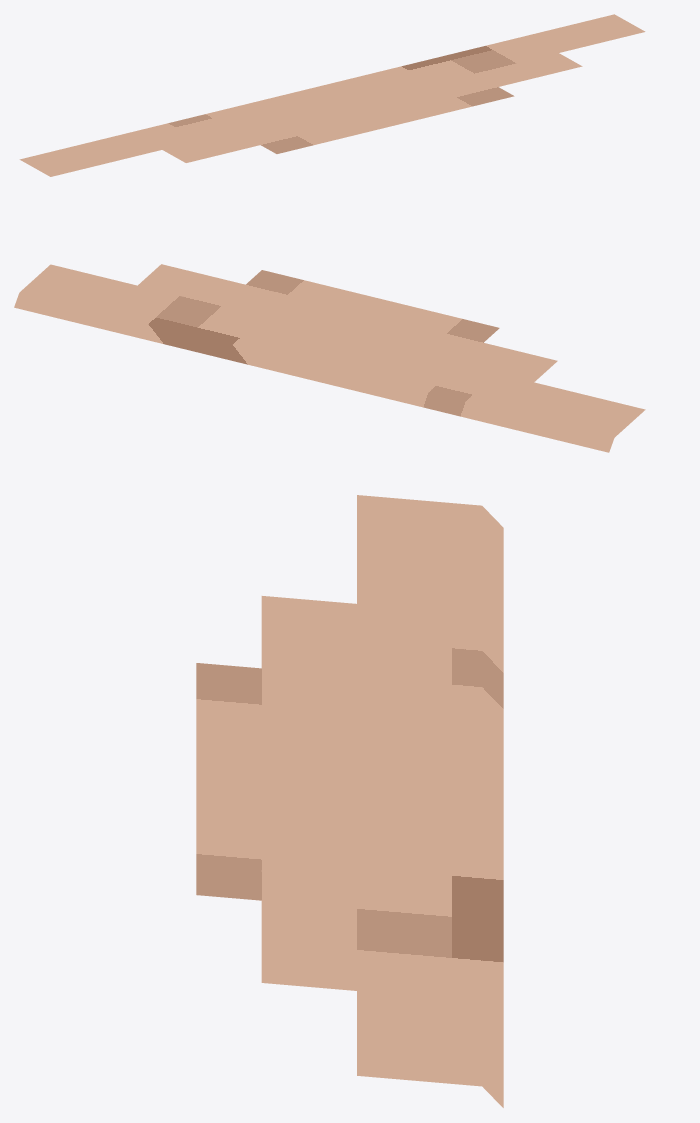
3 views of the same model, one above another, from view 1: azimuth 30°, elevation 25°; view 2: azimuth 150°, elevation 25°; view 3: azimuth 270°, elevation 25° (orthographic). The views are drawn at different scales.
Bounding box in the file's own units: 1 × 0.0373 × 0.2236.
Materials: 1 (1 with a texture image).
